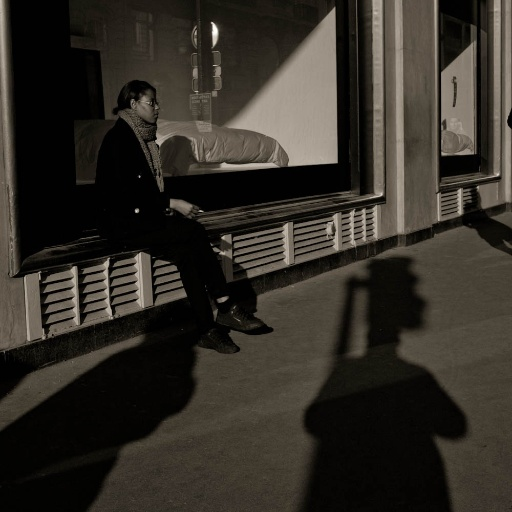hand: (177, 197, 200, 217)
